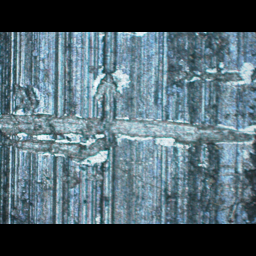d: (0, 110, 255, 167), (83, 60, 131, 101), (171, 62, 255, 83), (11, 81, 44, 114)
